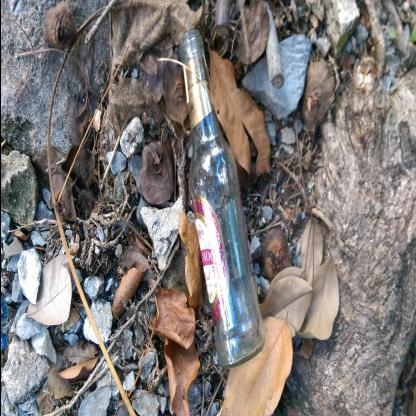cam: (178, 27, 266, 371)
